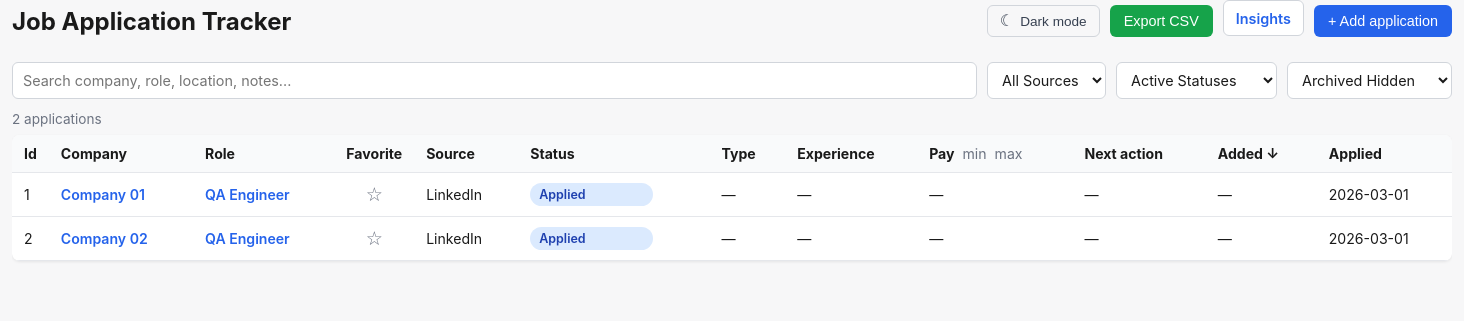
Scenario: toggling a favorite from the list (KAN-81) › reverts and explains when the save fails
Expected: the link "Company 01" is shown, [61,186,145,203]
Click the button named "favorite". click: (374, 194)
box: [352,176,397,212]
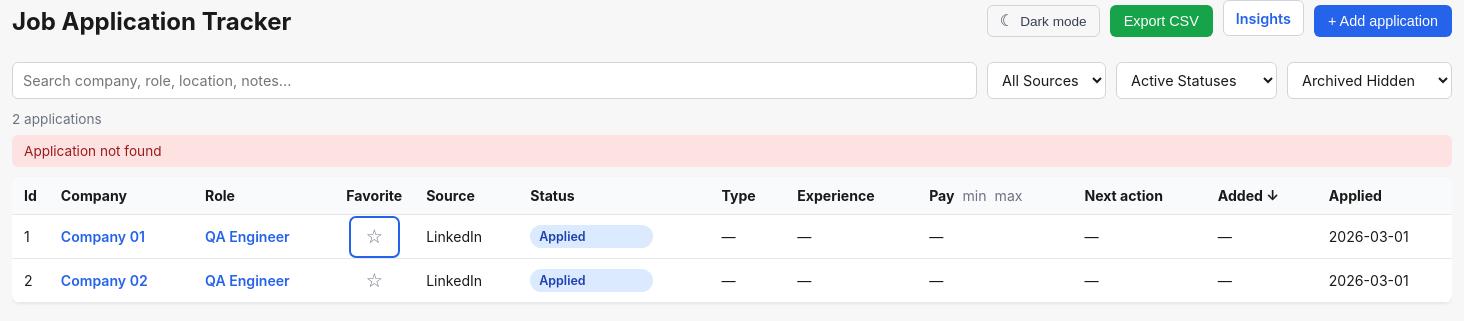
Expected: the text "Application not found" is shown, [12,135,1452,167]
